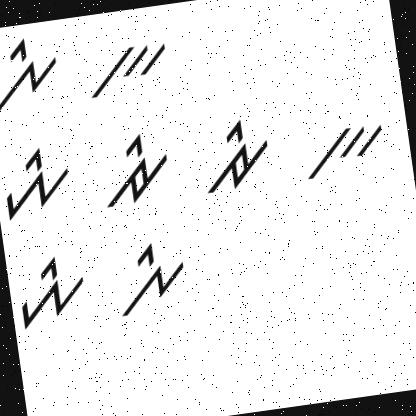li: (106, 233, 201, 324), (0, 30, 70, 117)
ri: (88, 129, 177, 214), (195, 115, 278, 202)
yi: (11, 245, 93, 334), (0, 140, 79, 221)
